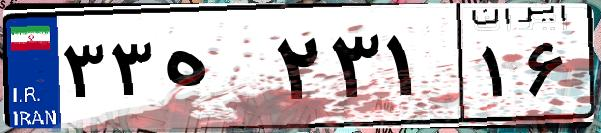1: (385, 28, 445, 110), (475, 38, 525, 113)
2: (270, 28, 330, 110)
3: (330, 28, 385, 110), (57, 26, 110, 100), (110, 28, 158, 98)
6: (525, 38, 570, 115)
ه: (158, 20, 270, 120)
